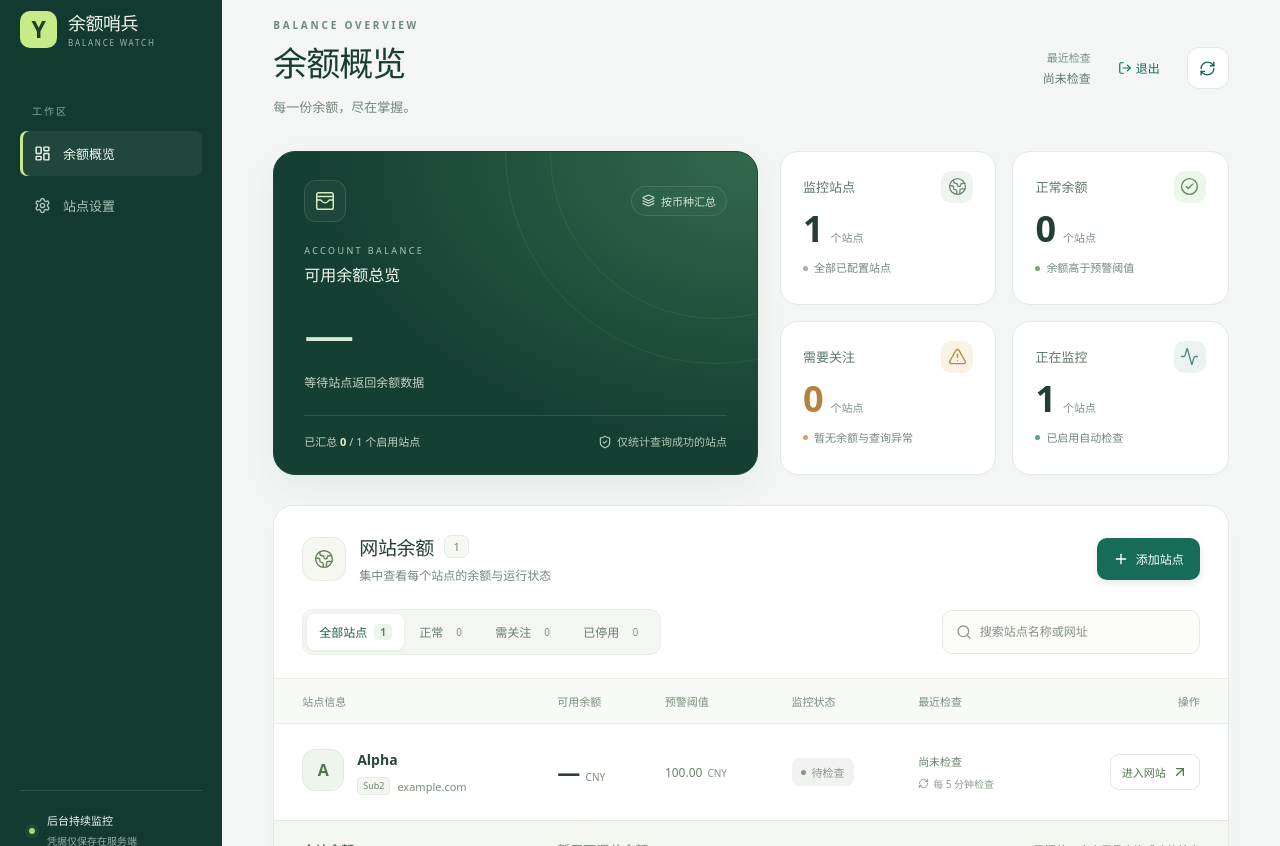
Scenario: React 页面流程 › 切换认证方式和预设，保留高级配置入口
This screenshot has width=1280, height=846.
Click the button "Alpha" at (377, 759), box [357,749,398,770]
(page scrolled)
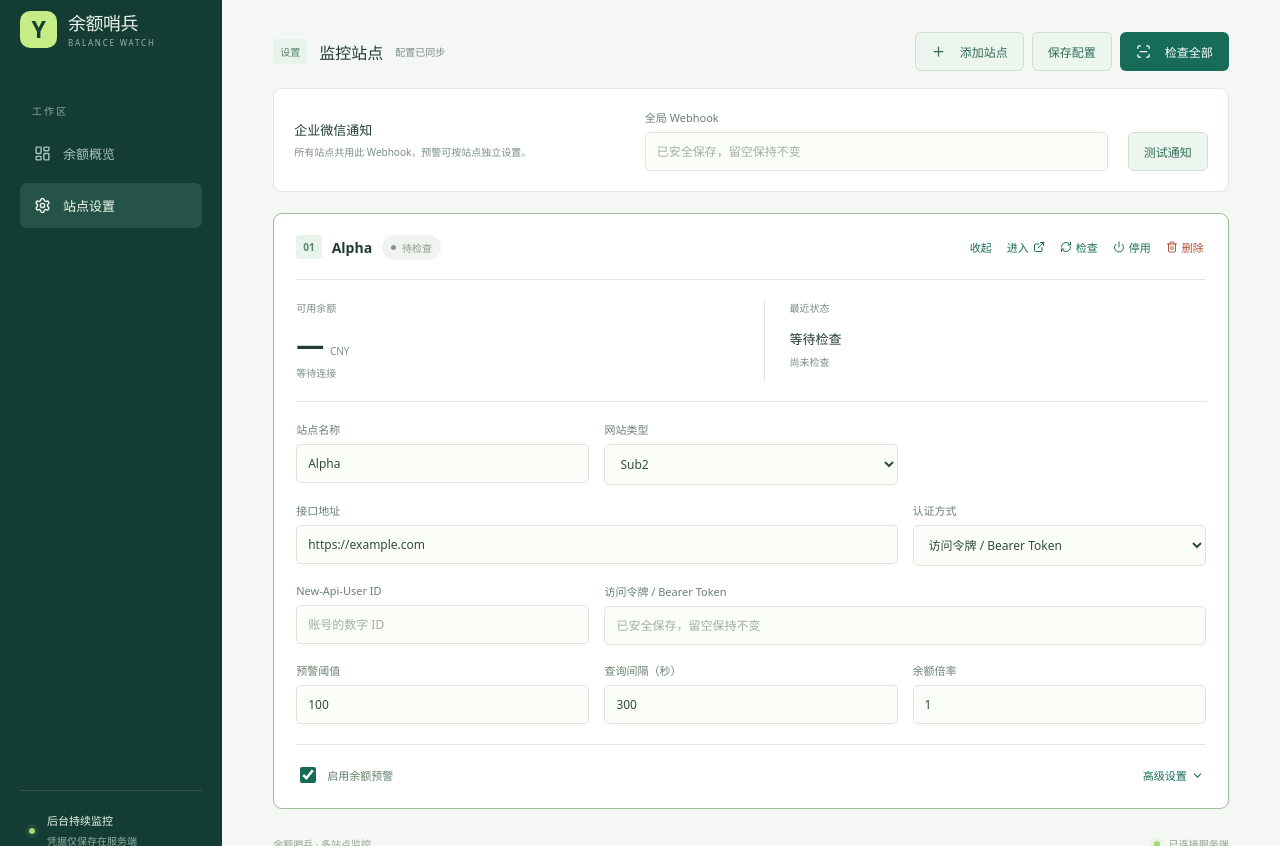
Select "New API" in the dropdown labelled "网站类型" at (751, 464), box [604,444,898,485]
(page scrolled)
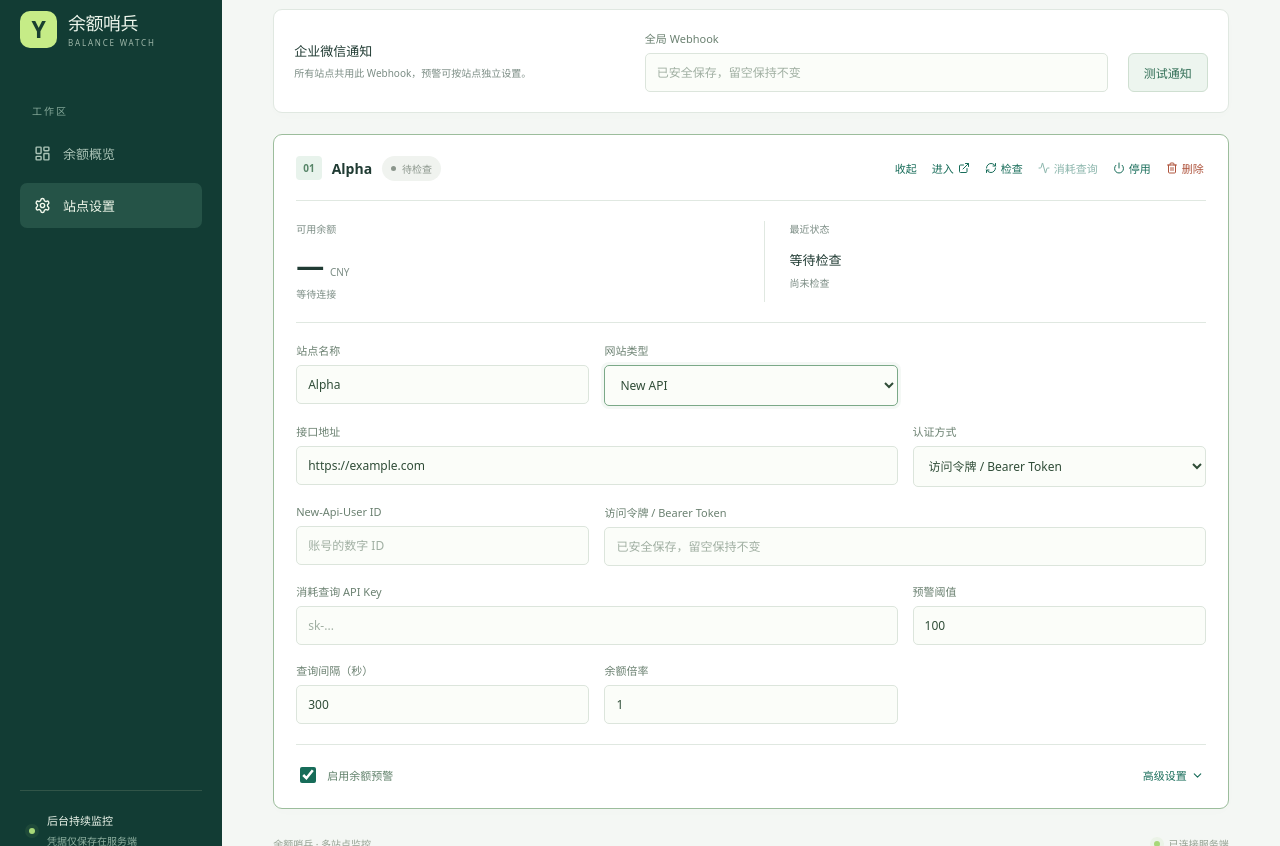
Expected: the field labelled "New-Api-User ID" is shown, [296,526,589,565]
Click the button "高级设置" at (1173, 775), box [1141,762,1206,788]
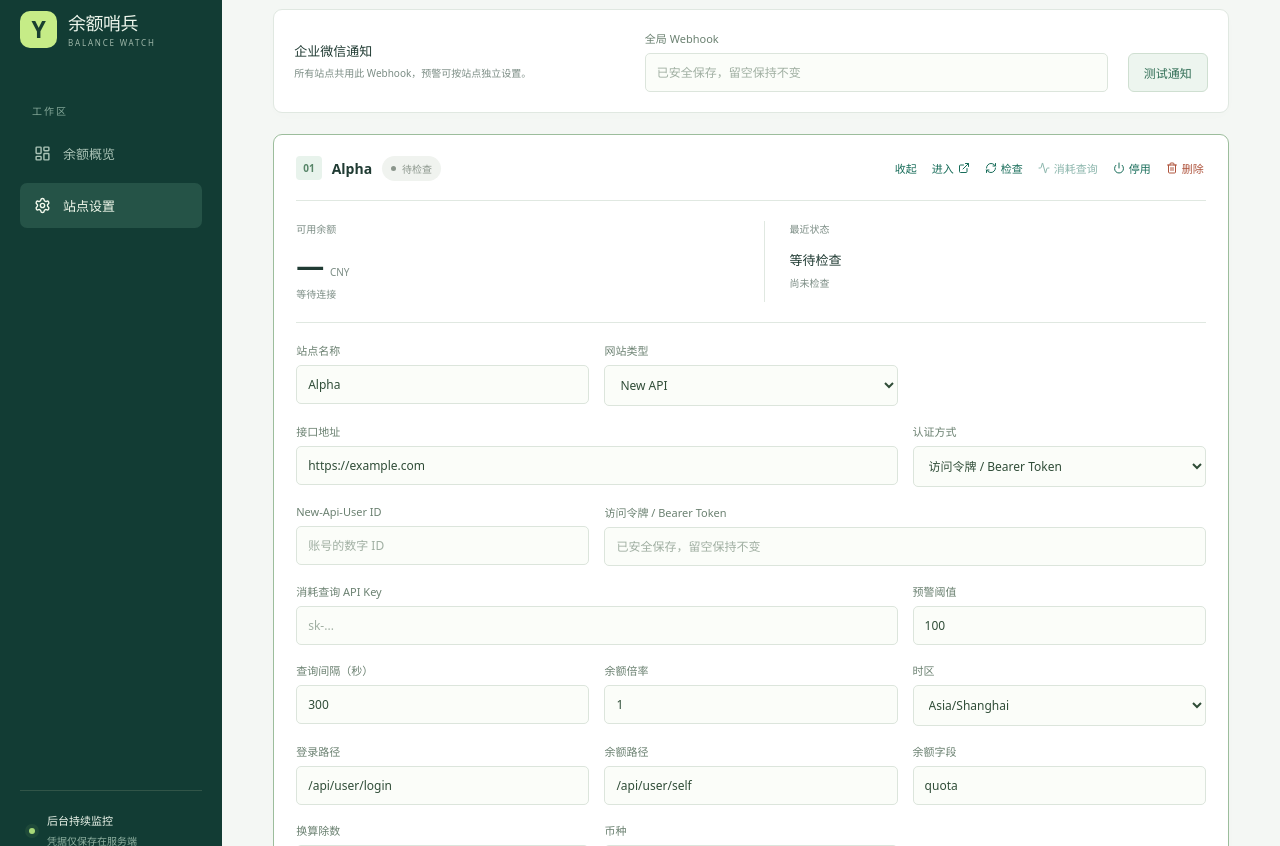
Expected: the field labelled "余额路径" holds "/api/user/self", [604,766,898,805]
Select "登录 Cookie（手动粘贴）" in the dropdown labelled "认证方式" at (1059, 466), box [913,446,1206,487]
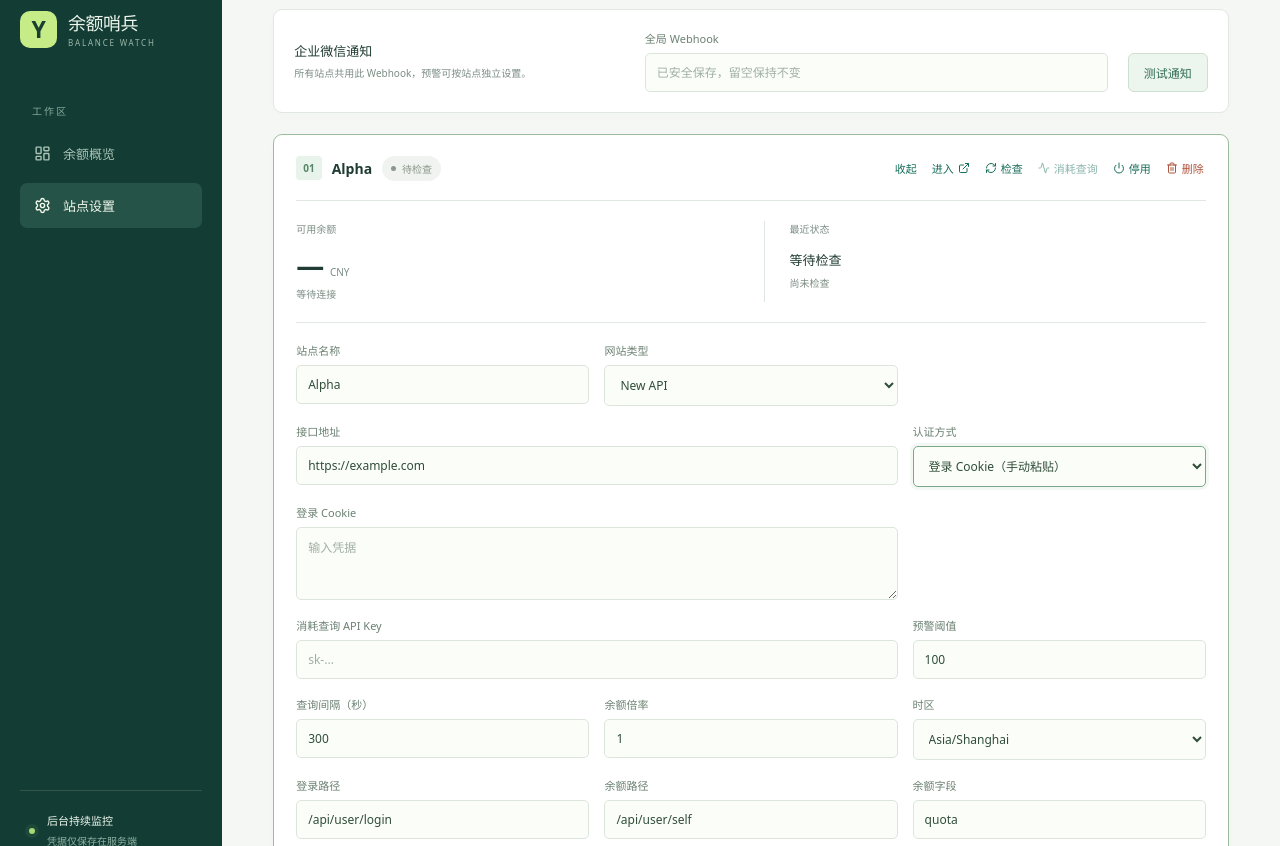
Expected: the text box labelled "登录 Cookie" is shown, [296,527,898,600]
Expected: the text labelled "New-Api-User ID" is gone
Expected: the text labelled "访问令牌 / Bearer Token" is gone
